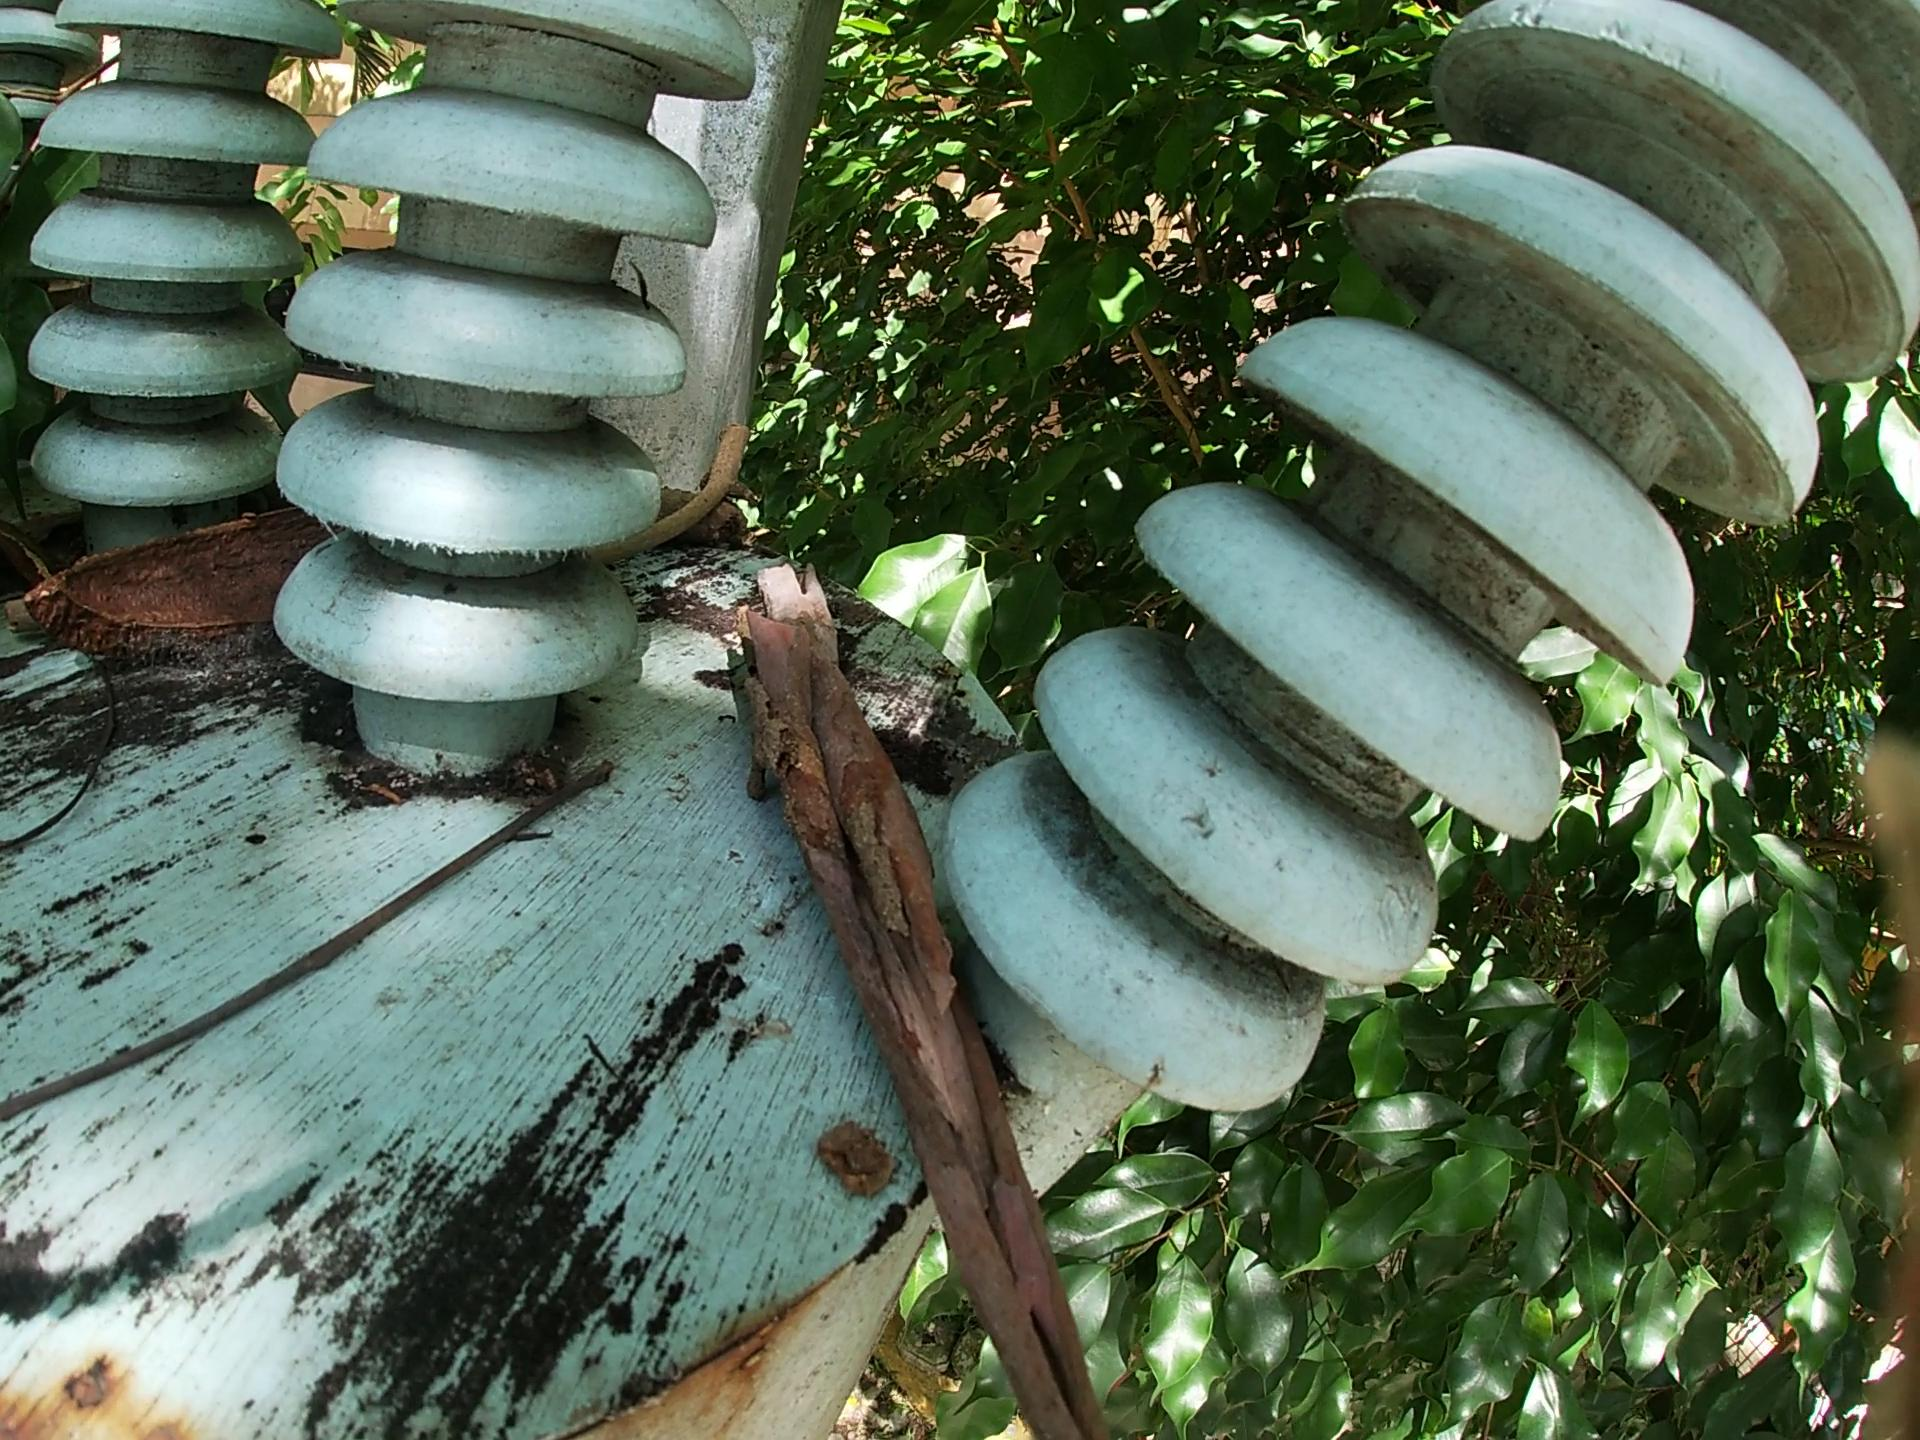branch with leaves: (2, 27, 148, 501)
mahogany fruit: (14, 476, 369, 656)
tree branch: (724, 534, 1172, 1438), (2, 755, 632, 1139), (2, 629, 121, 865), (614, 424, 771, 566), (618, 475, 748, 545)
